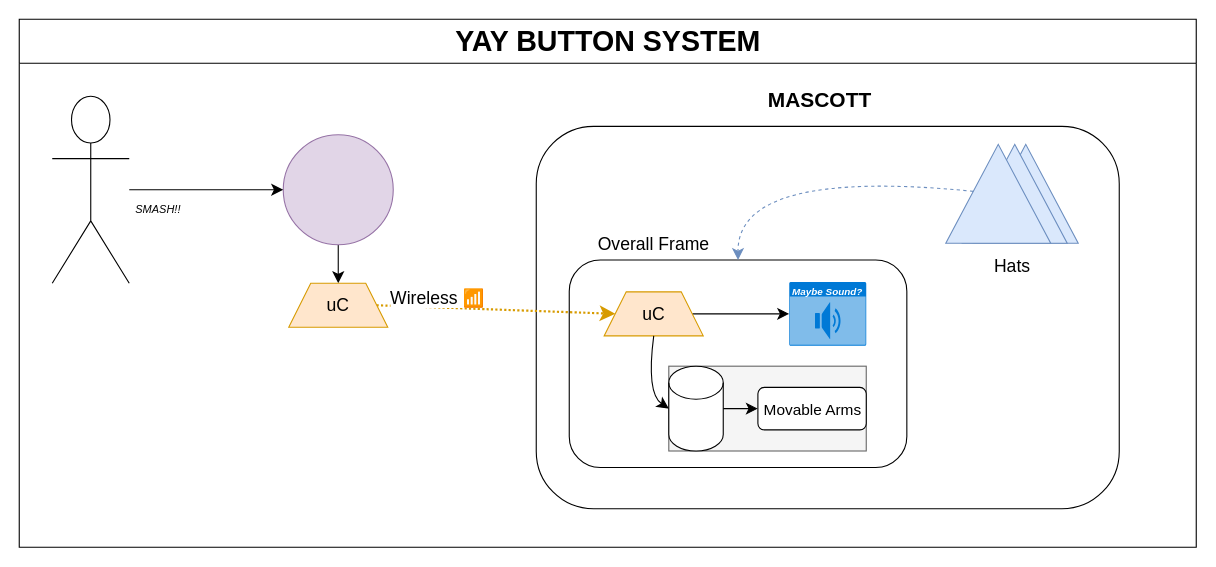
Some shapes in this 1216 by 567 pixel diagram are drawn without their labels. The shapes that lost their labels are listed below. From the top down, each one's centre as x and y in pixels, then its label:
At (337,189): "Yay Button".
At (695,408): "Motor ⚙".
